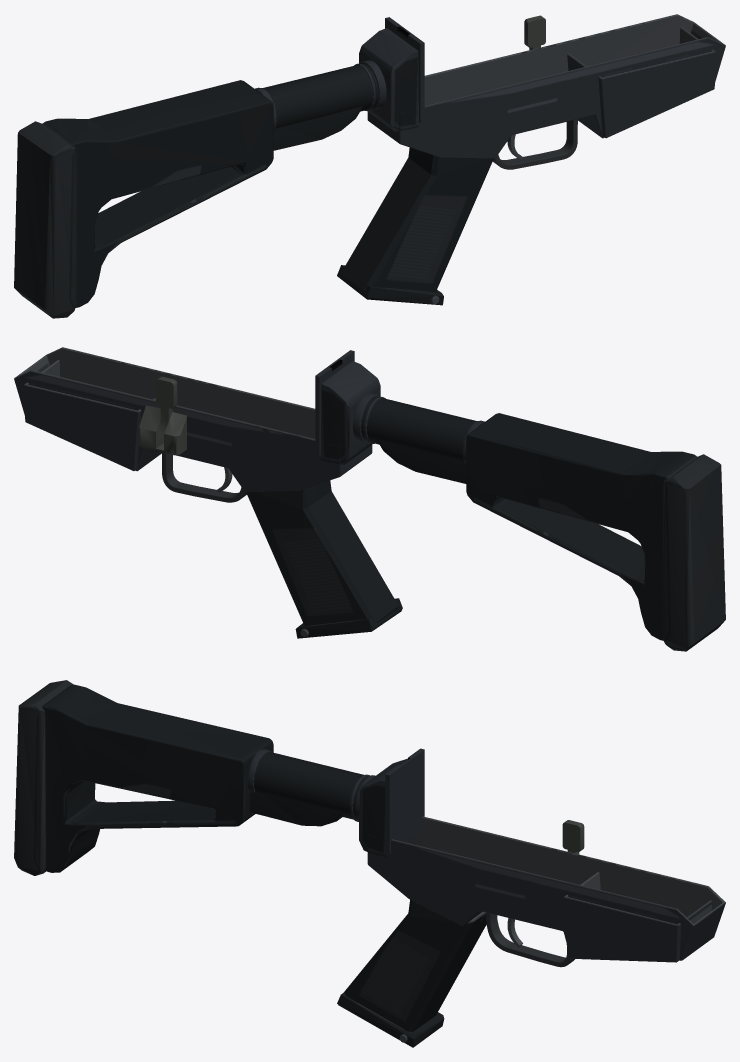
Rendered from 02_Lower_UVReady.fbx.
The picture shows the model from 3 angles, top to bottom: view 1: azimuth 30°, elevation 25°; view 2: azimuth 150°, elevation 25°; view 3: azimuth 330°, elevation 25°; orthographic projection.
Parts seen in each view (by area): view 1: 02_Lower; view 2: 02_Lower; view 3: 02_Lower.
Boxes of the visible parts, <box> form: 02_Lower: <box>14,14,725,318</box>; 02_Lower: <box>14,347,725,651</box>; 02_Lower: <box>14,680,725,1047</box>.
Bounding box in the file's own units: 0.4724 × 0.1789 × 0.0536.
1 material, 1 textured.
